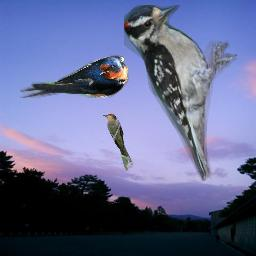Cuckoo: (102, 113, 133, 171)
Swallow: (20, 55, 129, 98)
Woodpecker: (124, 5, 237, 181)
